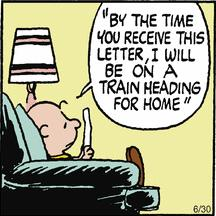charlie: (26, 100, 144, 187)
